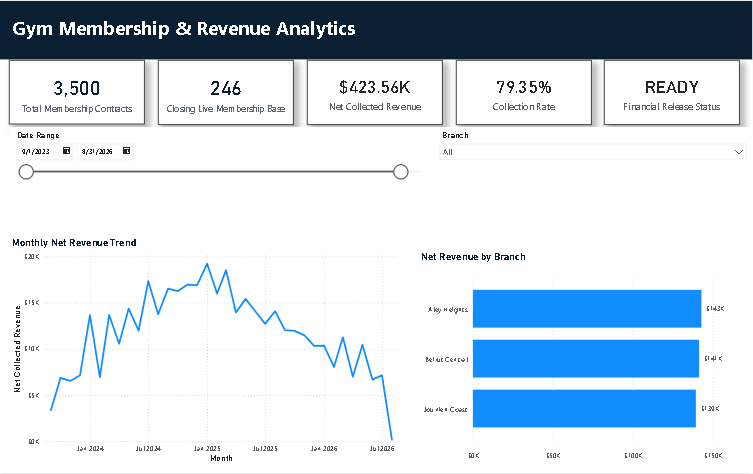

The page's visual inventory and layout, read from the dashboard file:
{"tool":"powerbi","page":{"name":"Executive Overview.","canvas":[1280,800],"ordinal":0},"visuals":[{"type":"shape","box":[0,0,1280.2,99.4],"z":0},{"type":"textbox","box":[20.2,17.3,1238.4,118.1],"z":1000},{"type":"card","fields":{"Values":["_Measures.Total Membership Contracts"]},"box":[20.2,100,230.4,109.4],"z":2000},{"type":"card","fields":{"Values":["_Measures.Closing Live Membership Base"]},"box":[272.8,99.5,229.9,109.8],"z":3000},{"type":"card","fields":{"Values":["_Measures.Net Collected Revenue"]},"box":[525,99.5,230,110],"z":4000},{"type":"card","fields":{"Values":["_Measures.Collection Rate"]},"box":[777.3,99.5,229.9,109.8],"z":5000},{"type":"card","fields":{"Values":["_Measures.Financial Release Status"]},"box":[1029.5,99.5,229.9,109.8],"z":6000},{"type":"lineChart","title":"Monthly Net Revenue Trend","fields":{"Y":["_Measures.Net Collected Revenue"],"Category":["Dim_Date.month_start_date"]},"box":[20,400,675,388.3],"z":7000},{"type":"clusteredBarChart","title":"Net Revenue by Branch","fields":{"Category":["Dim_Branch.branch_name"],"Y":["_Measures.Net Collected Revenue"]},"box":[713.3,400,566.7,350],"z":8000},{"type":"slicer","fields":{"Values":["Dim_Date.calendar_date"]},"box":[20,213.3,720,175],"z":9000},{"type":"slicer","fields":{"Values":["Dim_Branch.branch_name"]},"box":[755,213.3,525,140],"z":10000}]}

Visuals, with their boxes in screenshot pixels (x1, y1, x2, y2), scaled from the page's 1280x800 canvas onto the 753x474 screenshot:
shape: l=0, t=0, r=752, b=59
textbox: l=12, t=10, r=740, b=80
card - _Measures.Total Membership Contracts: l=12, t=59, r=147, b=124
card - _Measures.Closing Live Membership Base: l=160, t=59, r=296, b=124
card - _Measures.Net Collected Revenue: l=309, t=59, r=444, b=124
card - _Measures.Collection Rate: l=457, t=59, r=593, b=124
card - _Measures.Financial Release Status: l=606, t=59, r=741, b=124
"Monthly Net Revenue Trend" lineChart: l=12, t=237, r=409, b=467
"Net Revenue by Branch" clusteredBarChart: l=420, t=237, r=752, b=444
slicer - Dim_Date.calendar_date: l=12, t=126, r=435, b=230
slicer - Dim_Branch.branch_name: l=444, t=126, r=752, b=209
